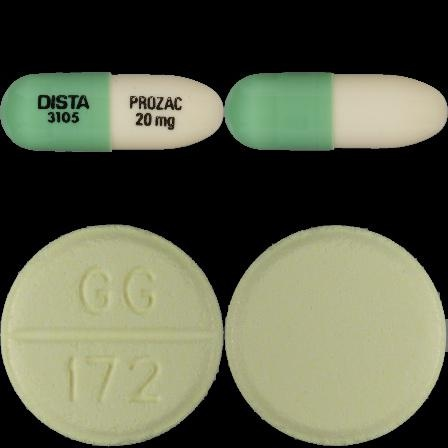0777-3105: (0, 0, 224, 224)
